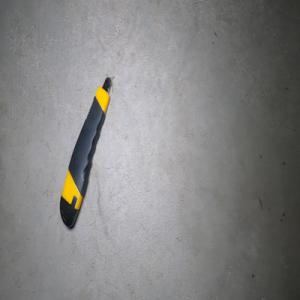Cutter: (58, 76, 113, 228)
